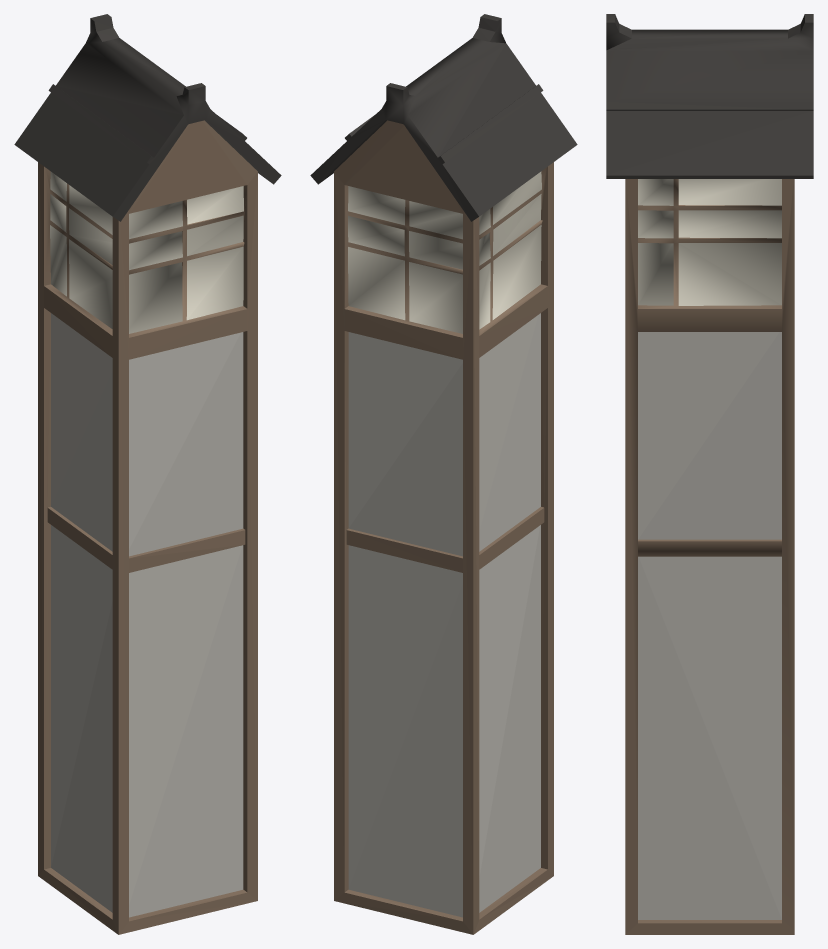
File: jp_lamp.glb
3 views of the same model, side by side, from view 1: azimuth 30°, elevation 25°; view 2: azimuth 150°, elevation 25°; view 3: azimuth 270°, elevation 25° (orthographic). The views are drawn at different scales.
Parts seen in each view (by area): view 1: jp_lamp; view 2: jp_lamp; view 3: jp_lamp.
Part boxes in pixels (x1,y1,x2,y2): jp_lamp: (14,14,281,934); jp_lamp: (310,14,577,934); jp_lamp: (606,14,813,934).
Bounding box in the file's own units: 0.4227 × 2 × 0.4265.
